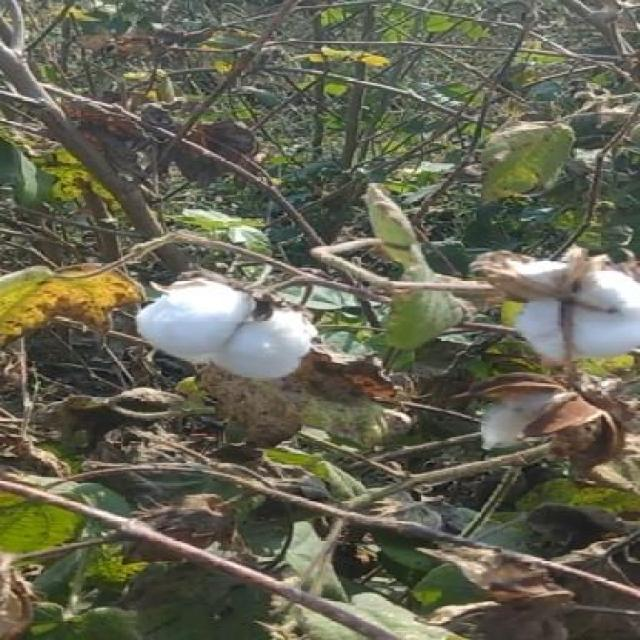cotton_ready: (58, 252, 350, 400)
